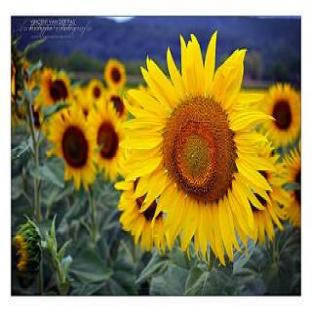sunflower: (121, 31, 276, 265)
